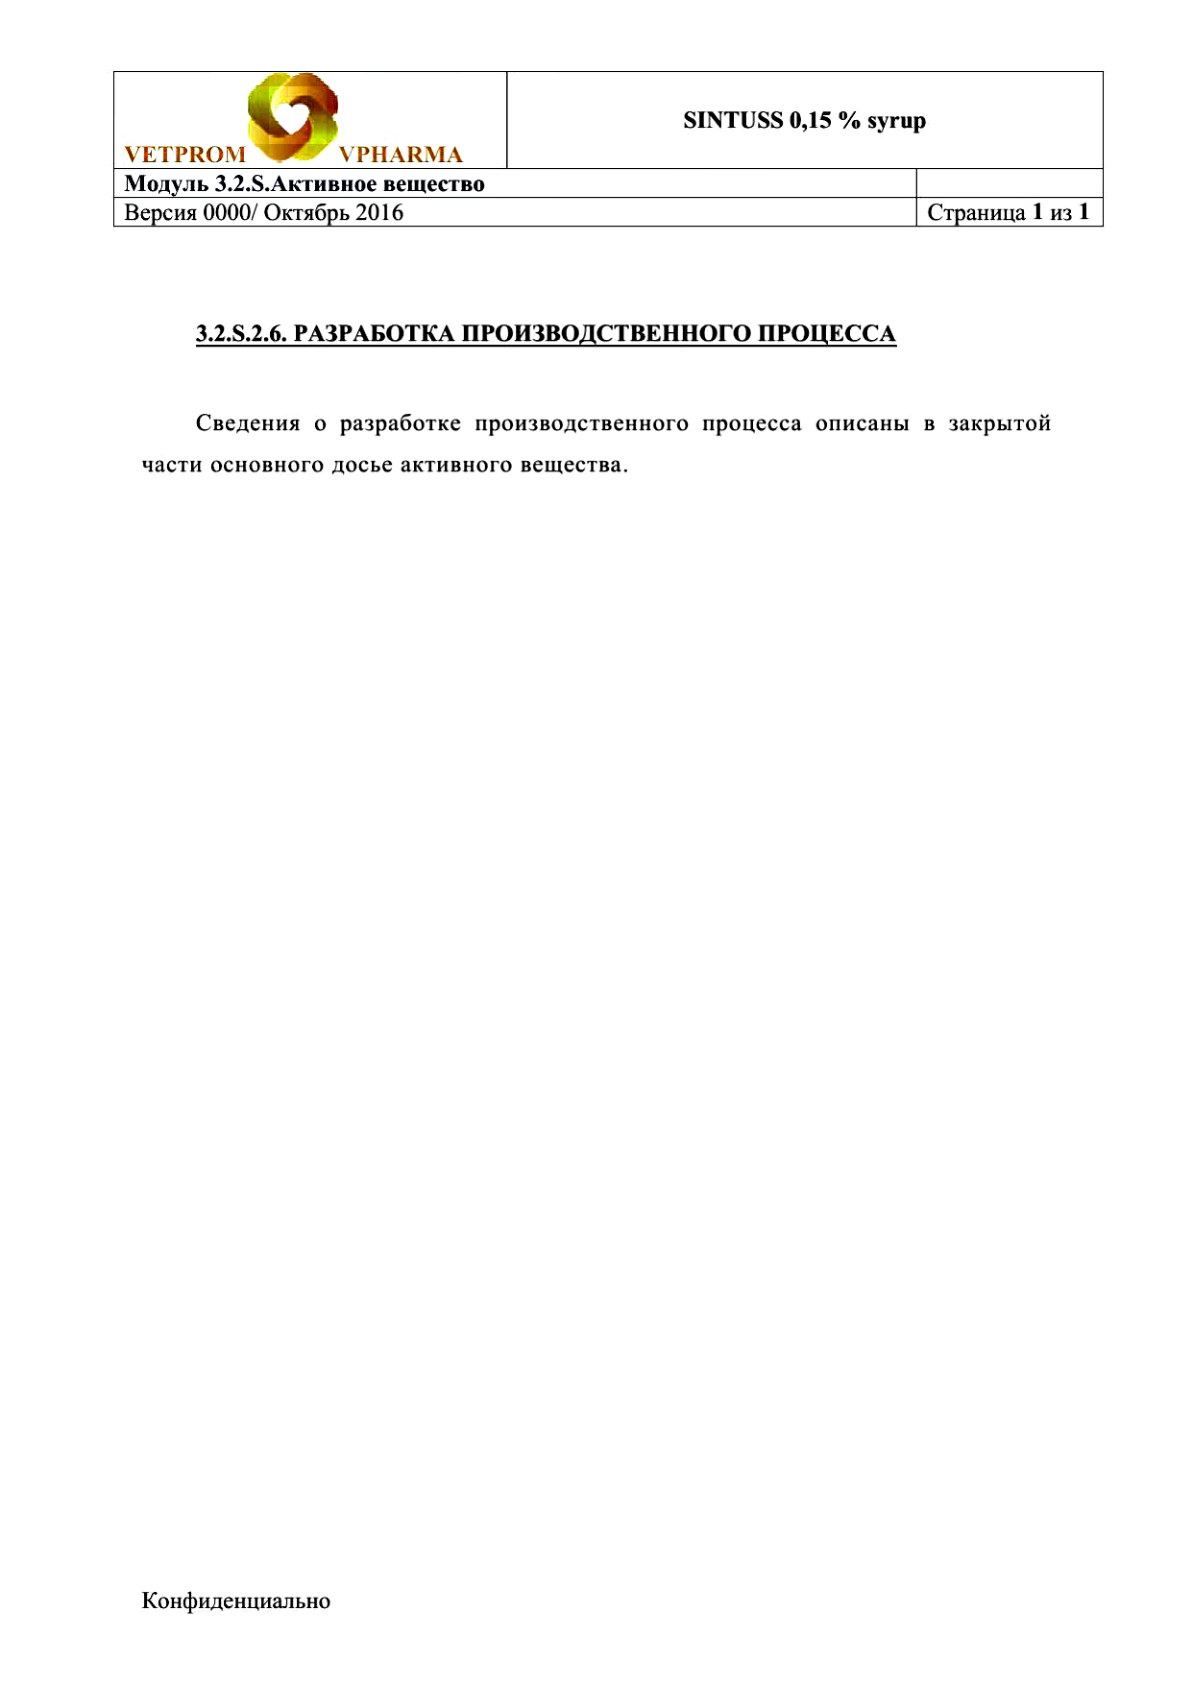merged_cells: (111, 70, 1104, 229)
